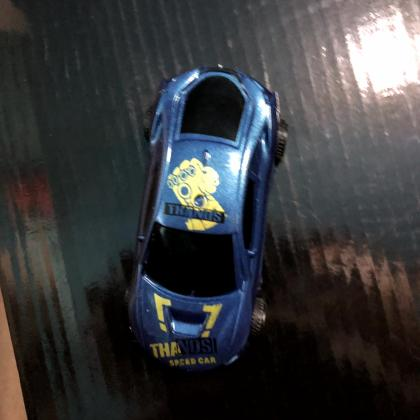Car: (120, 63, 290, 375)
